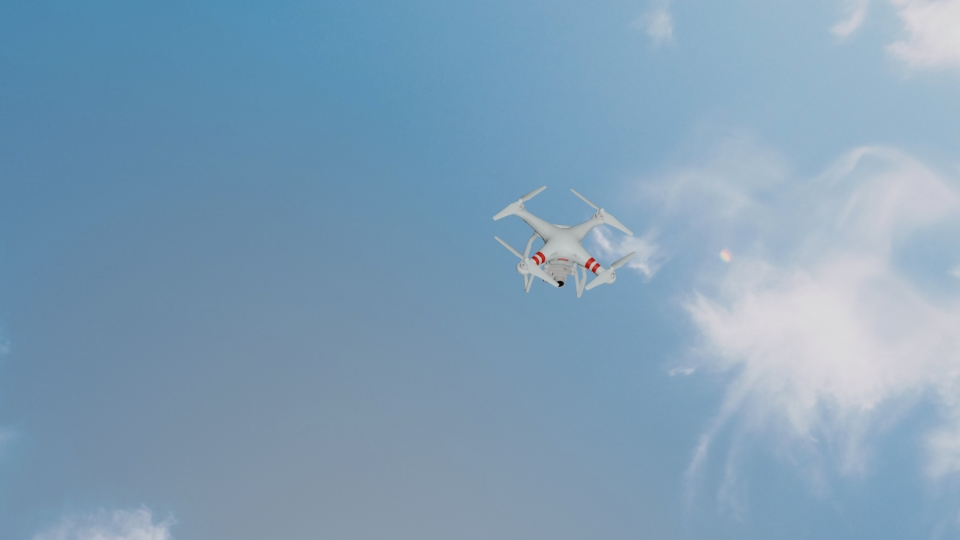drone: (491, 183, 640, 295)
